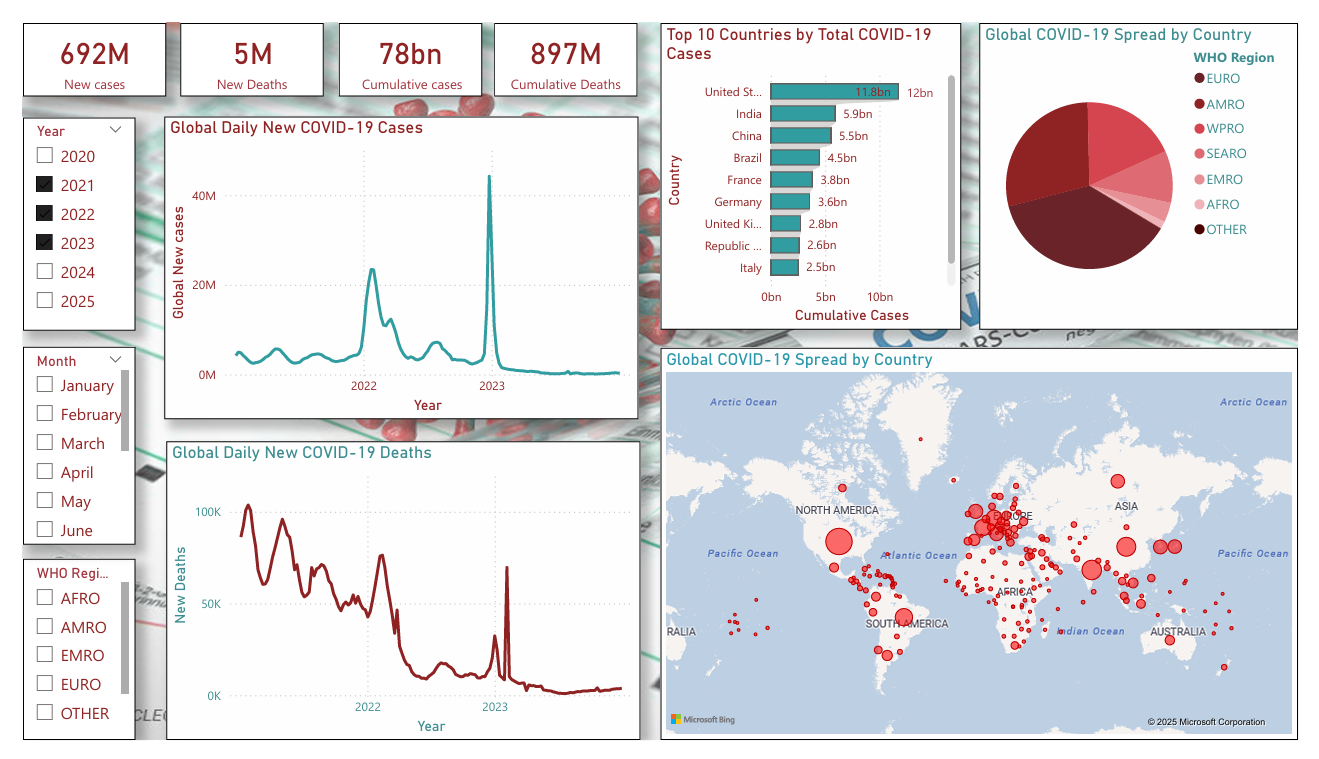

This screenshot's page, from the dashboard's own definition file:
{"tool":"powerbi","page":{"name":"Page 1","canvas":[1280,720],"ordinal":0},"visuals":[{"type":"lineChart","title":"Global Daily New COVID-19 Cases","fields":{"Y":["Sum(WHO_COVID19_cleaned.New_cases)"],"Category":["WHO_COVID19_cleaned.Date_reported.Variation.Date Hierarchy.Year","WHO_COVID19_cleaned.Date_reported.Variation.Date Hierarchy.Month","WHO_COVID19_cleaned.Date_reported.Variation.Date Hierarchy.Day"]},"box":[142,94,476,304],"z":0},{"type":"card","fields":{"Values":["Sum(WHO_COVID19_cleaned.New_cases)"]},"box":[0,0,144.1,74.1],"z":1000},{"type":"card","fields":{"Values":["Sum(WHO_COVID19_cleaned.New_deaths)"]},"box":[157.8,0,144.1,74.1],"z":2000},{"type":"card","fields":{"Values":["Sum(WHO_COVID19_cleaned.Cumulative_cases)"]},"box":[317,0,144.1,74.1],"z":3000},{"type":"card","fields":{"Values":["Sum(WHO_COVID19_cleaned.Cumulative_deaths)"]},"box":[473.4,0,144.1,74.1],"z":4000},{"type":"slicer","fields":{"Values":["WHO_COVID19_cleaned.Date_reported.Variation.Date Hierarchy.Year"]},"box":[0,94.7,112.5,214.1],"z":5000},{"type":"slicer","fields":{"Values":["WHO_COVID19_cleaned.WHO_region"]},"box":[0,537.9,112.5,182.5],"z":6000},{"type":"lineChart","title":"Global Daily New COVID-19 Deaths","fields":{"Category":["WHO_COVID19_cleaned.Date_reported.Variation.Date Hierarchy.Year","WHO_COVID19_cleaned.Date_reported.Variation.Date Hierarchy.Month","WHO_COVID19_cleaned.Date_reported.Variation.Date Hierarchy.Day"],"Y":["Sum(WHO_COVID19_cleaned.New_deaths)"]},"box":[144,420,476,300],"z":7000},{"type":"barChart","title":"Top 10 Countries by Total COVID-19 Cases","fields":{"Y":["Sum(WHO_COVID19_cleaned.Cumulative_cases)"],"Category":["WHO_COVID19_cleaned.Country"]},"box":[640,0,302,308],"z":8000},{"type":"slicer","fields":{"Values":["WHO_COVID19_cleaned.Date_reported.Variation.Date Hierarchy.Month"]},"box":[0,325.2,112.5,199],"z":9000},{"type":"pieChart","title":"Global COVID-19 Spread by Country","fields":{"Y":["Sum(WHO_COVID19_cleaned.Cumulative_cases)"],"Category":["WHO_COVID19_cleaned.WHO_region"]},"box":[960,0,320,308],"z":10000},{"type":"map","title":"Global COVID-19 Spread by Country","fields":{"Category":["WHO_COVID19_cleaned.Country"],"Size":["Sum(WHO_COVID19_cleaned.Cumulative_cases)"]},"box":[640,326,640,394],"z":11000}]}

Visuals, with their boxes in screenshot pixels (x1, y1, x2, y2), scaled from the page's 1280x720 canvas onto the 1319x759 screenshot:
"Global Daily New COVID-19 Cases" lineChart: BBox(146, 99, 637, 420)
card - Sum(WHO_COVID19_cleaned.New_cases): BBox(0, 0, 148, 78)
card - Sum(WHO_COVID19_cleaned.New_deaths): BBox(163, 0, 311, 78)
card - Sum(WHO_COVID19_cleaned.Cumulative_cases): BBox(327, 0, 475, 78)
card - Sum(WHO_COVID19_cleaned.Cumulative_deaths): BBox(488, 0, 636, 78)
slicer - WHO_COVID19_cleaned.Date_reported.Variation.Date Hierarchy.Year: BBox(0, 100, 116, 326)
slicer - WHO_COVID19_cleaned.WHO_region: BBox(0, 567, 116, 758)
"Global Daily New COVID-19 Deaths" lineChart: BBox(148, 443, 639, 758)
"Top 10 Countries by Total COVID-19 Cases" barChart: BBox(660, 0, 971, 325)
slicer - WHO_COVID19_cleaned.Date_reported.Variation.Date Hierarchy.Month: BBox(0, 343, 116, 553)
"Global COVID-19 Spread by Country" pieChart: BBox(989, 0, 1318, 325)
"Global COVID-19 Spread by Country" map: BBox(660, 344, 1318, 758)
